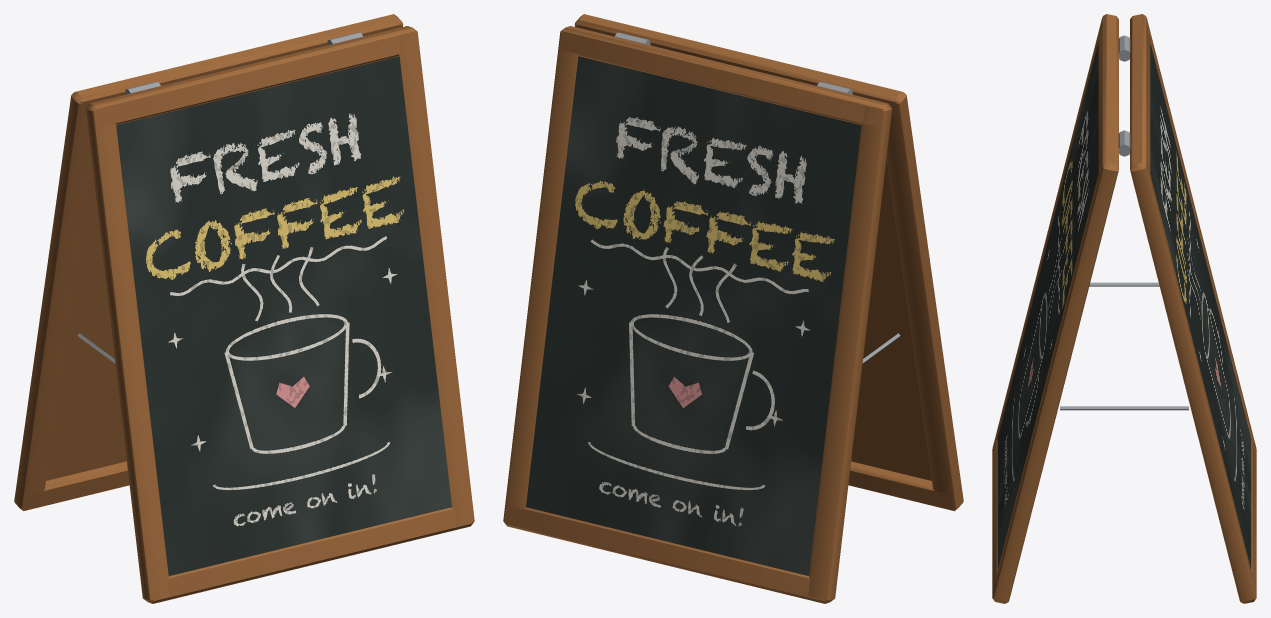
The model's file is AFrameSign.fbx.
3 renders of one model, left to right at view 1: azimuth 30°, elevation 25°; view 2: azimuth 150°, elevation 25°; view 3: azimuth 270°, elevation 25°, orthographic. The views are drawn at different scales.
Visible parts, largest first — view 1: AFrameSign_Mesh; view 2: AFrameSign_Mesh; view 3: AFrameSign_Mesh.
Boxes of the visible parts, <box> form: AFrameSign_Mesh: <box>14,14,474,603</box>; AFrameSign_Mesh: <box>503,14,963,603</box>; AFrameSign_Mesh: <box>992,14,1256,603</box>.
Bounding box in the file's own units: 0.645 × 0.8664 × 0.4703.
